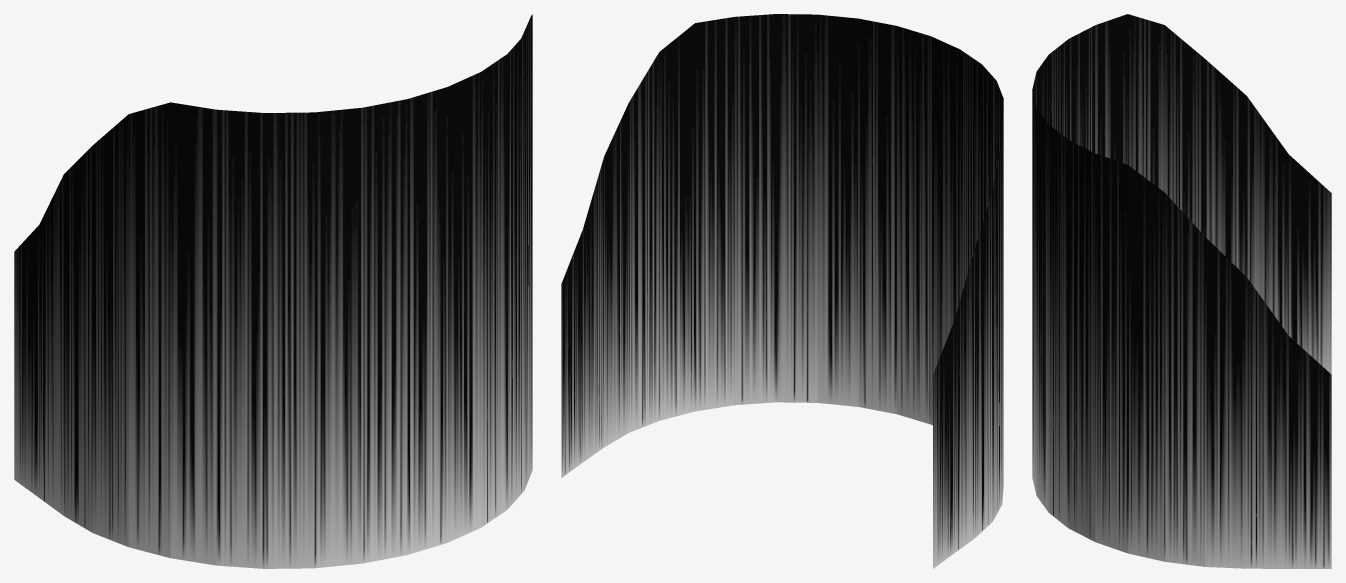
The model's file is bossWaveWall.obj.
The picture shows the model from 3 angles, left to right: view 1: azimuth 30°, elevation 25°; view 2: azimuth 150°, elevation 25°; view 3: azimuth 270°, elevation 25°; orthographic projection. The views are drawn at different scales.
Parts seen in each view (by area): view 1: 円柱; view 2: 円柱; view 3: 円柱.
Boxes of the visible parts, left/top/right/bottom form: 円柱: left=14, top=14, right=532, bottom=568; 円柱: left=561, top=14, right=1003, bottom=568; 円柱: left=1032, top=14, right=1331, bottom=568.
Size of the model in its own units: 2 by 2 by 1.4.
1 material, 1 textured.
